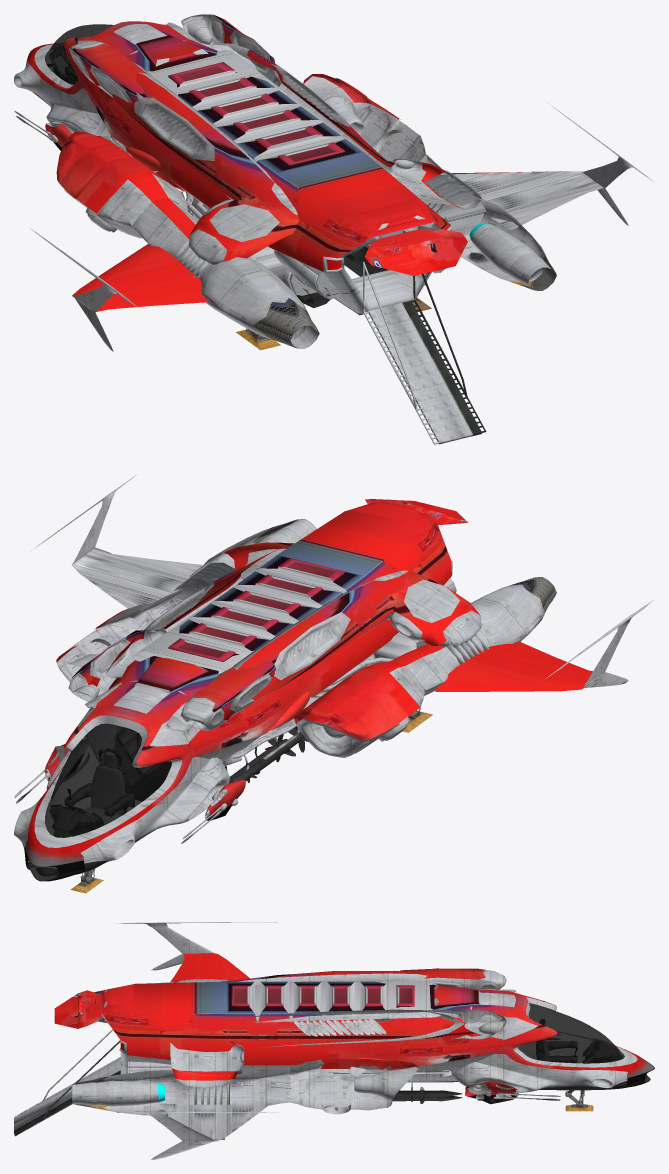
The model's file is explorer.gltf.
The picture shows the model from 3 angles, top to bottom: view 1: azimuth 30°, elevation 25°; view 2: azimuth 150°, elevation 25°; view 3: azimuth 270°, elevation 25°; orthographic projection. The views are drawn at different scales.
Parts seen in each view (by area): view 1: body1b, Kameri explorer landed, gate, mesh01; view 2: body1b, mesh01, Kameri explorer landed, gate; view 3: body1b, Kameri explorer landed, mesh01, gate.
Boxes of the visible parts, <box> form: body1b: <box>14,14,653,351</box>; Kameri explorer landed: <box>363,261,486,444</box>; gate: <box>364,227,467,275</box>; mesh01: <box>49,46,431,350</box>; body1b: <box>14,474,653,881</box>; mesh01: <box>50,706,432,893</box>; Kameri explorer landed: <box>84,752,124,823</box>; gate: <box>365,499,467,525</box>; body1b: <box>71,922,654,1159</box>; Kameri explorer landed: <box>14,1022,548,1136</box>; mesh01: <box>221,1019,622,1139</box>; gate: <box>54,990,103,1028</box>.
Size of the model in its own units: 223 by 74.57 by 318.
